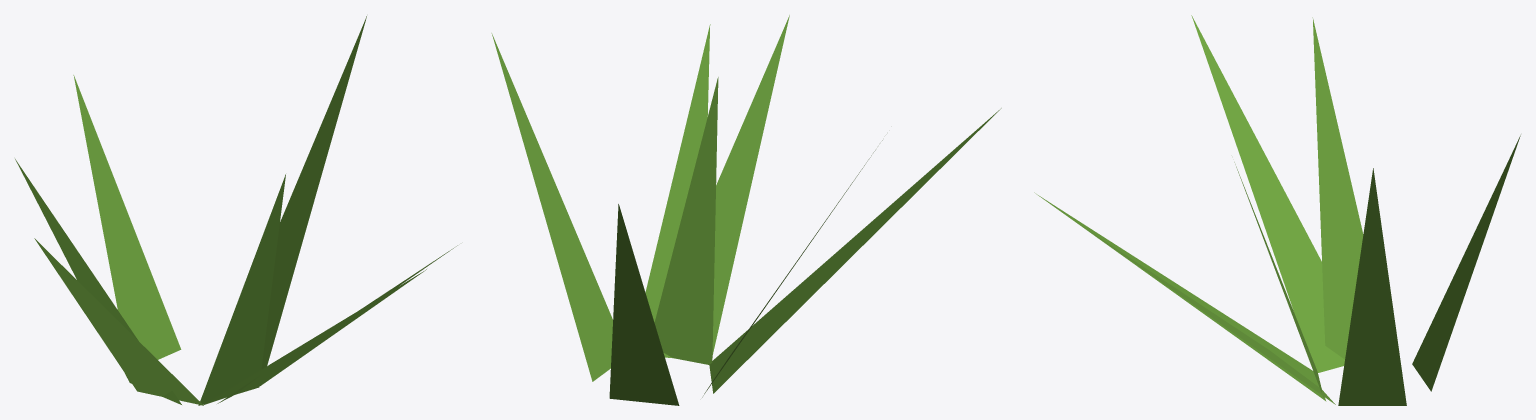
3 renders of one model, left to right at view 1: azimuth 30°, elevation 25°; view 2: azimuth 150°, elevation 25°; view 3: azimuth 270°, elevation 25°, orthographic. The views are drawn at different scales.
Parts seen in each view (by area): view 1: grass-tuft-a; view 2: grass-tuft-a; view 3: grass-tuft-a.
Boxes of the visible parts, bbox=[...] form: grass-tuft-a: bbox=[15, 16, 457, 405]; grass-tuft-a: bbox=[491, 15, 1001, 405]; grass-tuft-a: bbox=[1034, 15, 1520, 405].
Size of the model in its own units: 0.5348 by 0.3784 by 0.5703.
